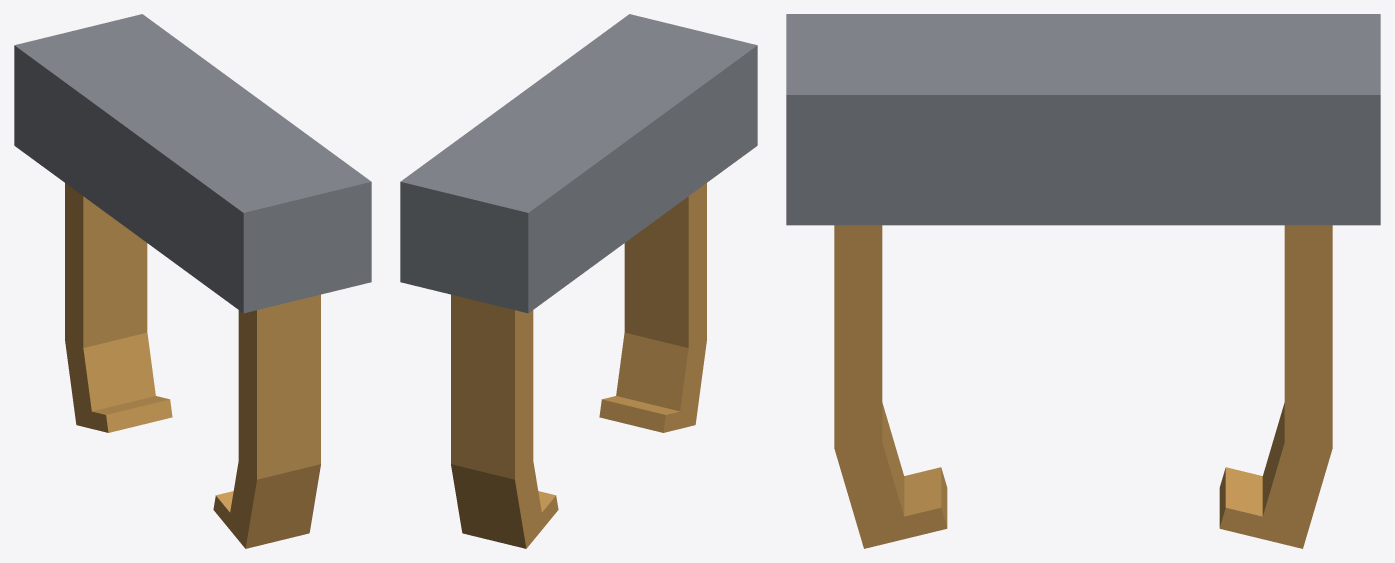
File: gripper.glb
3 renders of one model, left to right at view 1: azimuth 30°, elevation 25°; view 2: azimuth 150°, elevation 25°; view 3: azimuth 270°, elevation 25°, orthographic. The views are drawn at different scales.
Parts seen in each view (by area): view 1: palm, finger_right, finger_left; view 2: palm, finger_left, finger_right; view 3: palm, finger_left, finger_right.
Boxes of the visible parts, x1=… form: palm: x1=14, y1=14, x2=371, y2=313; finger_right: x1=213, y1=294, x2=320, y2=548; finger_left: x1=65, y1=183, x2=172, y2=432; palm: x1=400, y1=14, x2=757, y2=313; finger_left: x1=451, y1=294, x2=558, y2=548; finger_right: x1=599, y1=183, x2=706, y2=432; palm: x1=786, y1=14, x2=1380, y2=225; finger_left: x1=1219, y1=225, x2=1332, y2=548; finger_right: x1=834, y1=225, x2=947, y2=548.
Size of the model in its own units: 0.04 by 0.1092 by 0.124.
